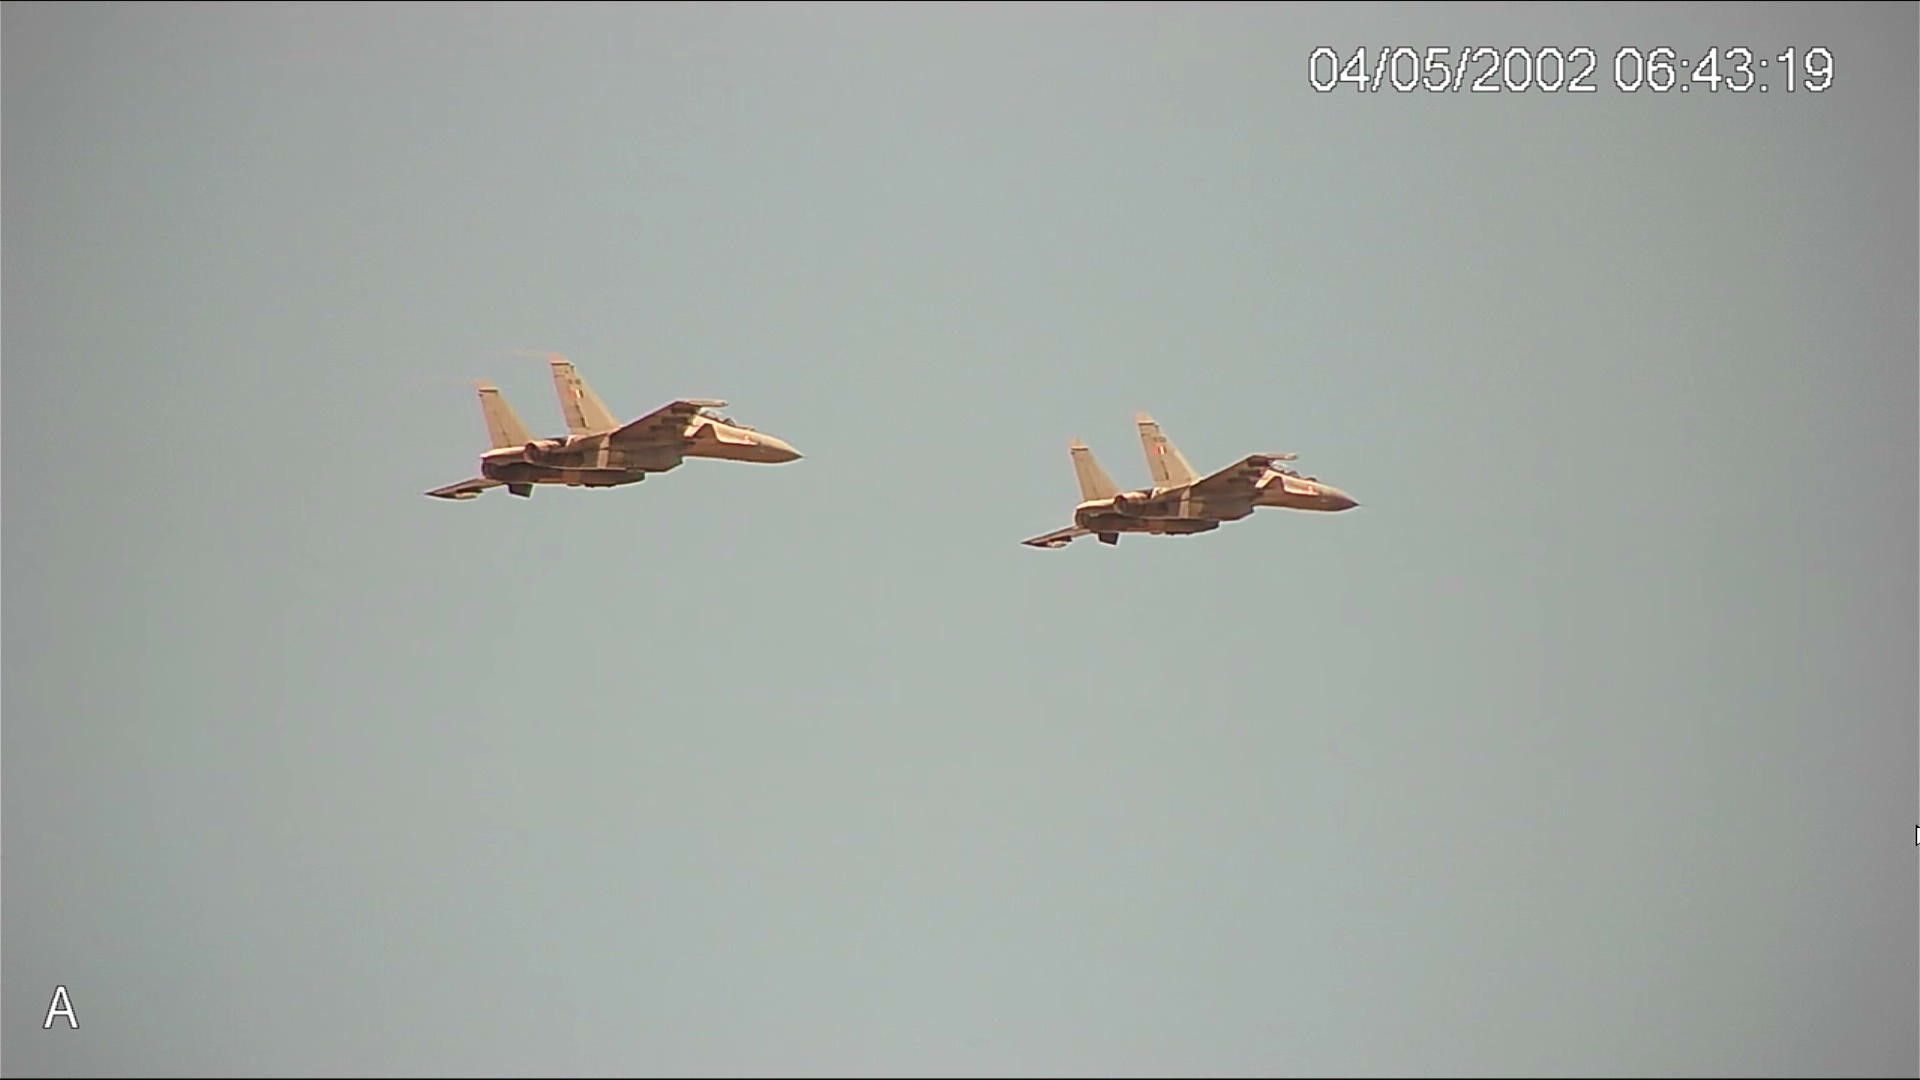SU_30: (429, 345, 806, 517), (1017, 401, 1373, 551)
